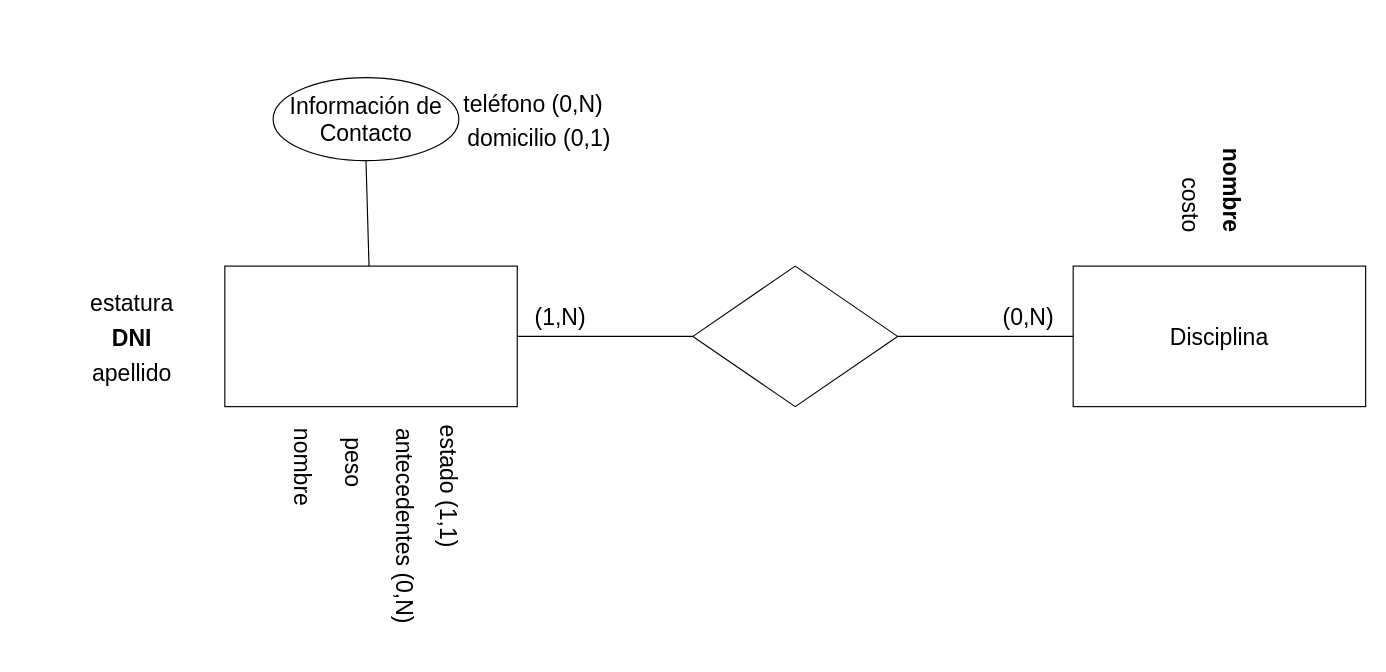
The diagram is 1386 pixels wide and 672 high, and some of its shapes have lost their labels. Each missing label, with the centre of its shape:
abonado: point (370, 336)
Realiza: point (795, 336)
